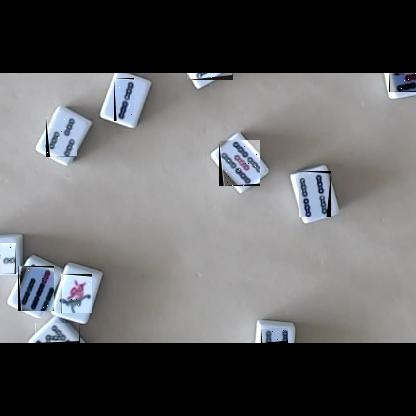1s: (61, 274, 92, 313)
2s: (114, 78, 134, 121)
3s: (46, 117, 77, 157), (0, 243, 16, 274)
4s: (299, 171, 331, 217), (261, 328, 288, 343)
5s: (219, 140, 260, 186), (389, 73, 416, 92), (187, 73, 233, 80)
7s: (18, 266, 54, 311)
8s: (35, 323, 80, 343)
